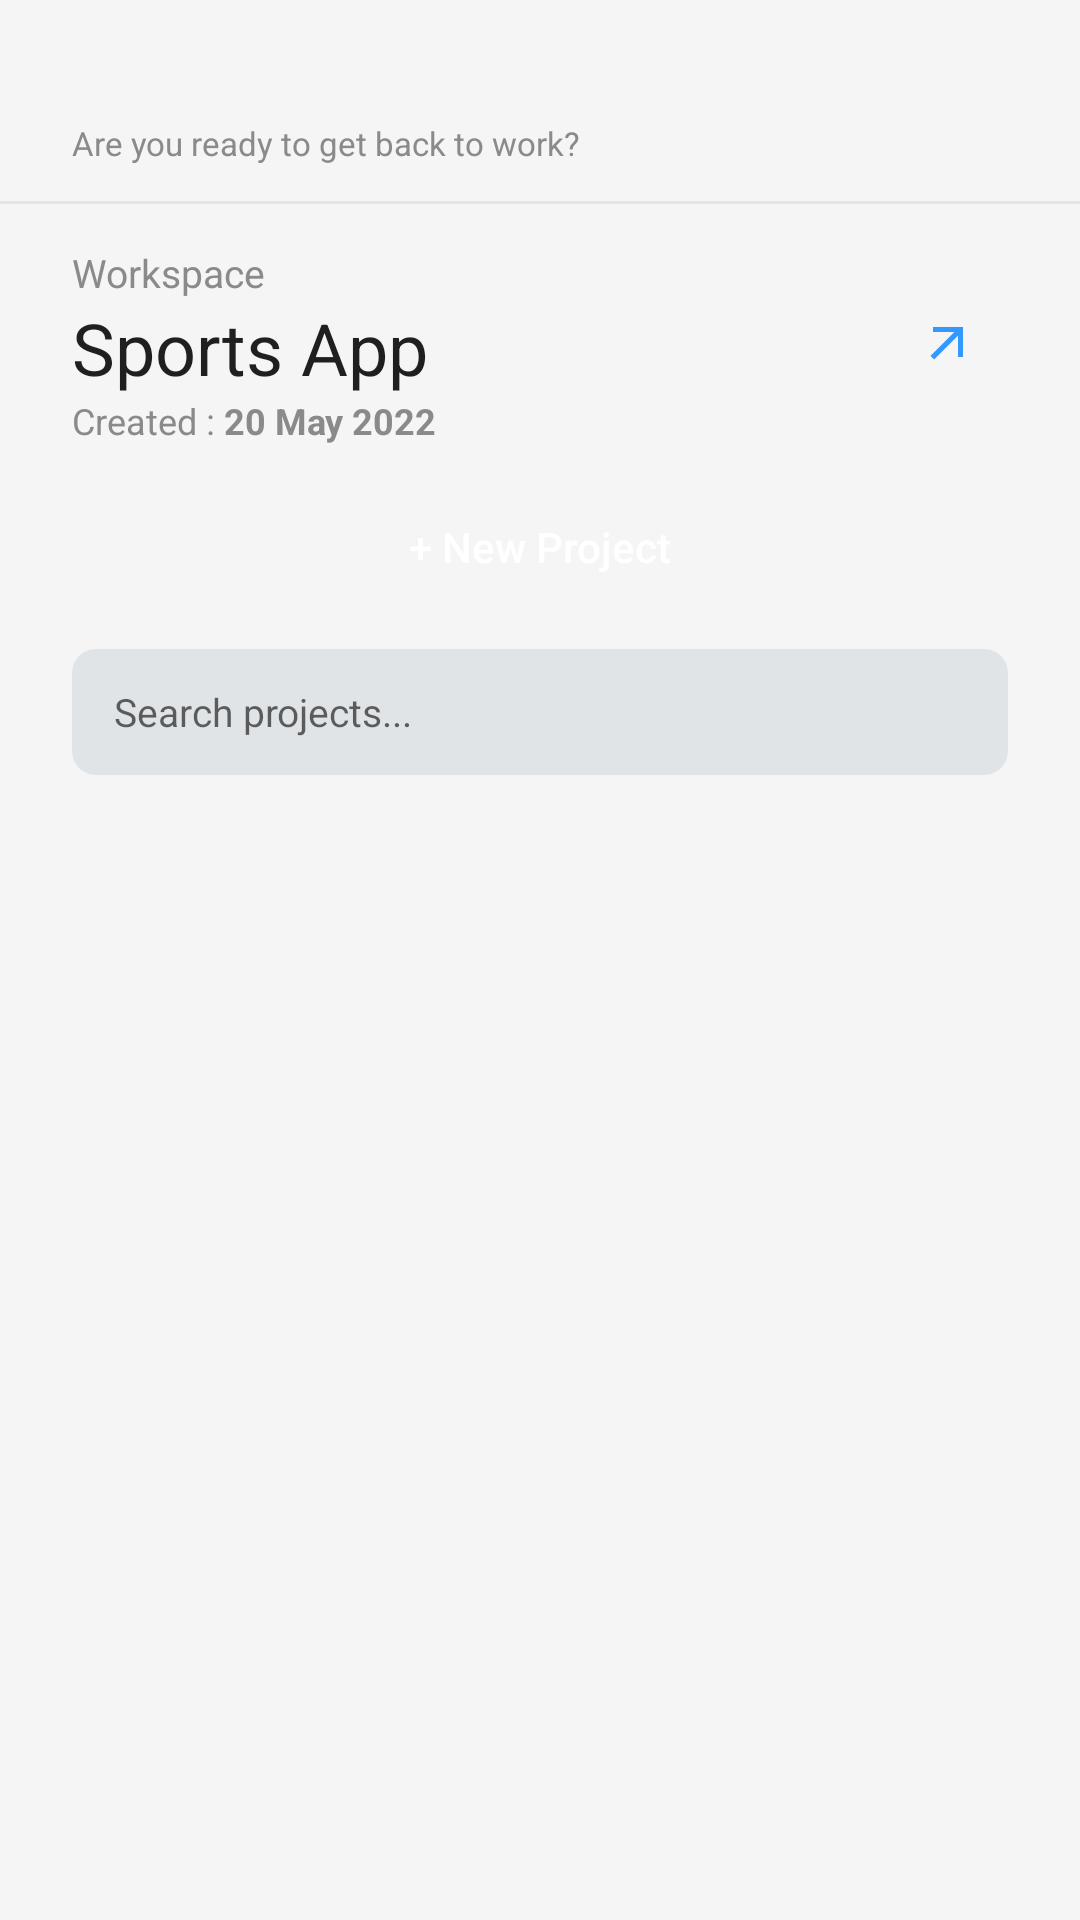

Named icons in this screenshot (1080px×1920px) and their bounding boxes, bbox=[x1, y1, x2, y2]:
Open workspace: bbox=[930, 327, 963, 360]
